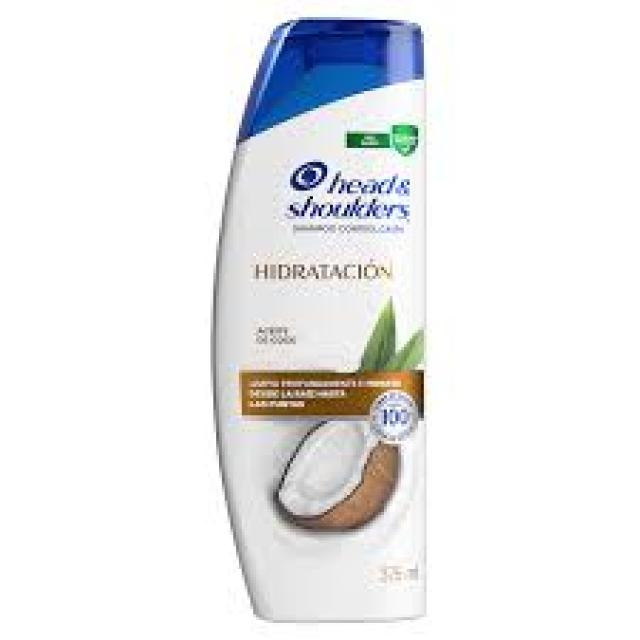Botella: (194, 0, 446, 620)
